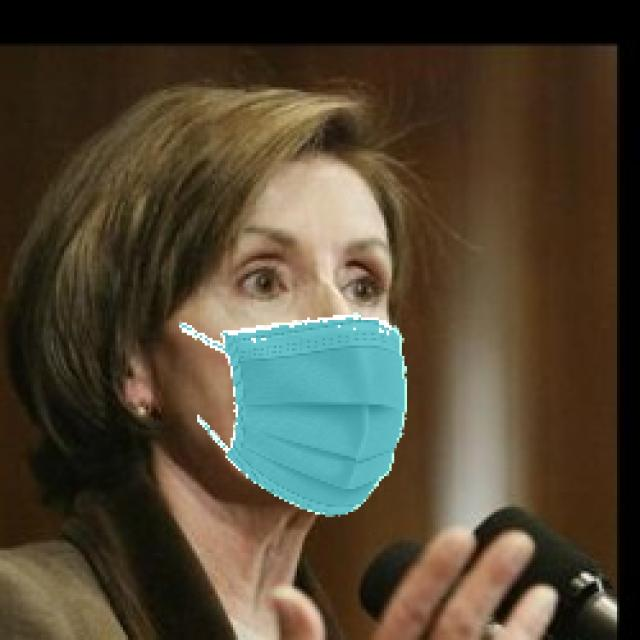mask: (149, 286, 423, 548)
